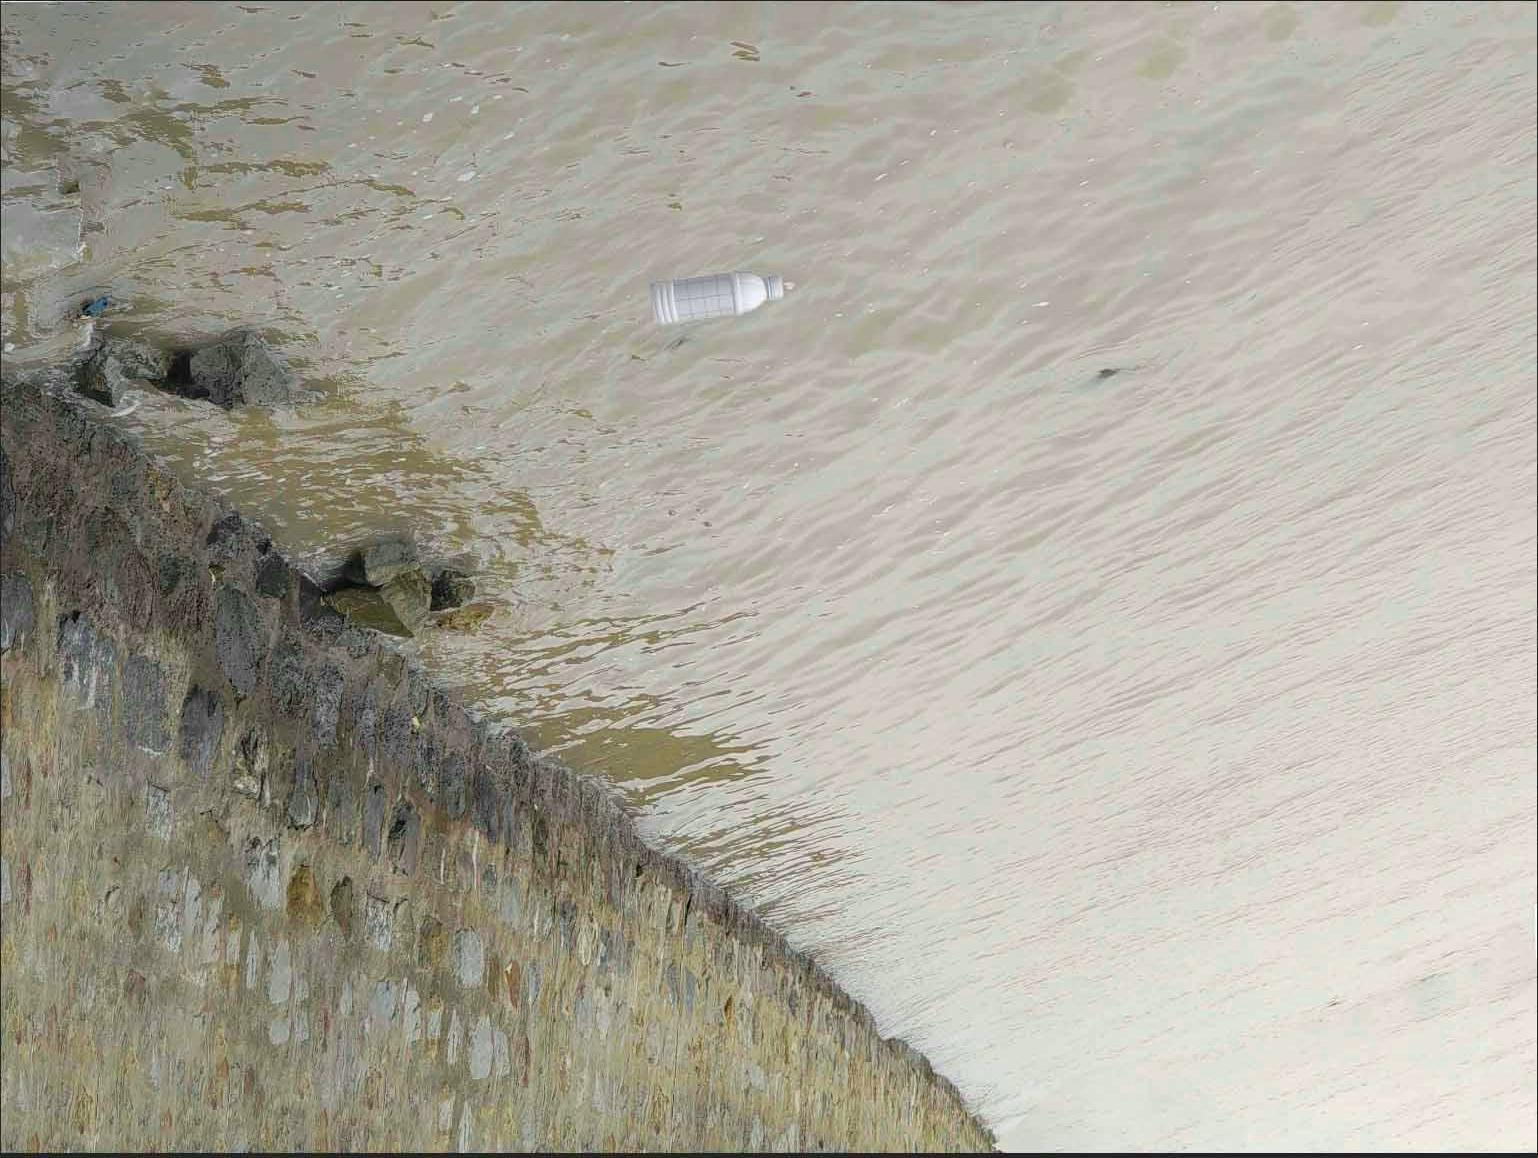Plastic: (643, 265, 804, 330)
